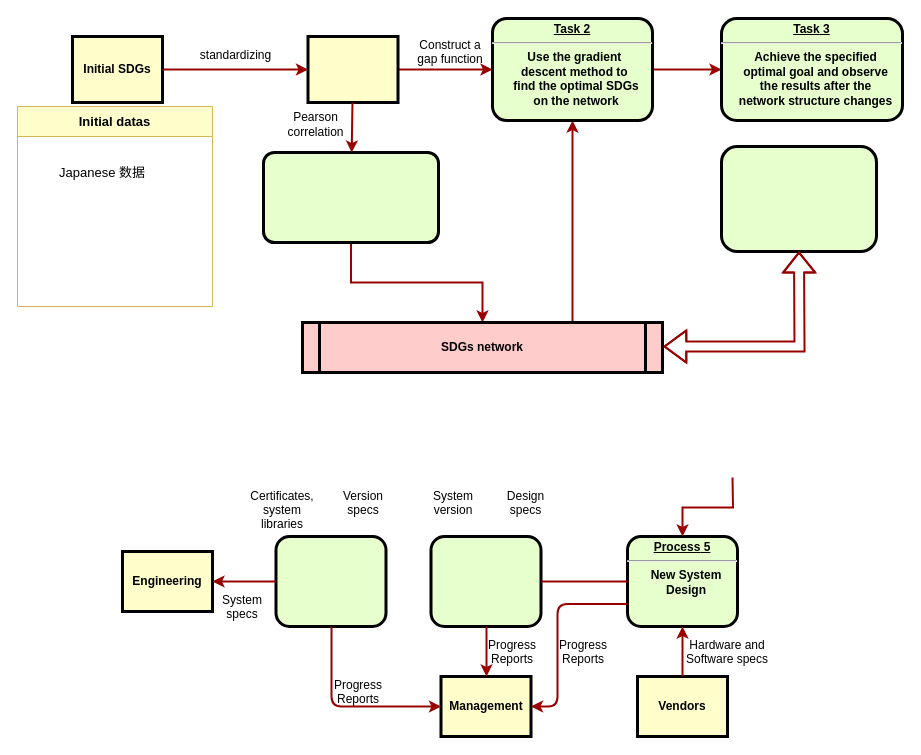
Image size: 921x755. Some labels were removed from this diagram. Here are the shapes that lost their labels. From the top down, the box of each, then its label:
(306, 34, 399, 104): Normalized SDGs
(262, 150, 440, 244): Task 1 Use correlation coefficients to connect different SDGs to form a network
(720, 144, 878, 252): Task 4 Add new nodes to the network， Calculate the network structure again
(274, 534, 387, 628): Process 6 New System Construction
(429, 534, 542, 628): Process 7 New System Startup and Testing
